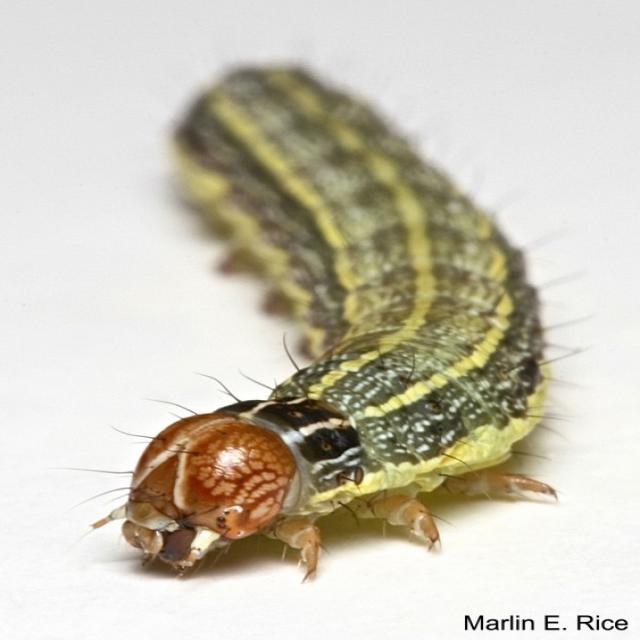pest-armyworm: (105, 60, 568, 583)
